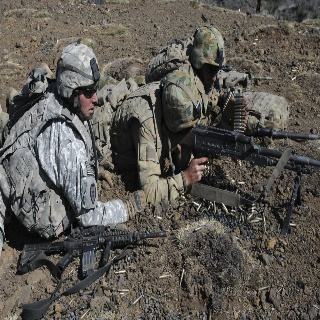rifle: (17, 224, 167, 277), (194, 122, 320, 178), (244, 121, 318, 141)
